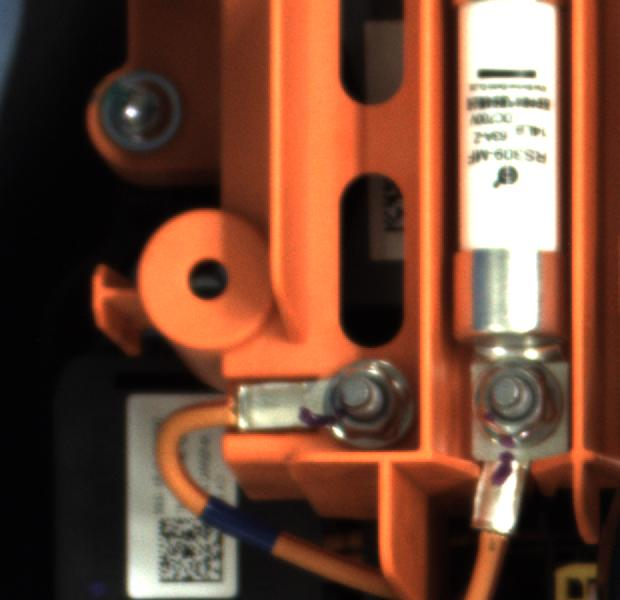screw_m: (92, 60, 192, 162)
screw_s: (462, 357, 567, 446), (311, 356, 415, 443)
